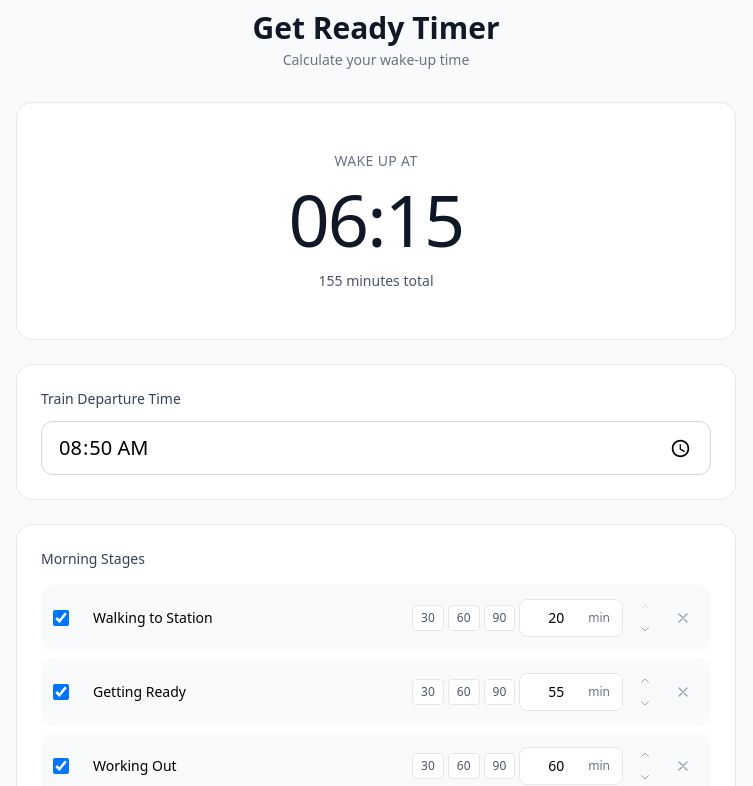
Test case: App › allows disabling a stage
Click the 1st checkbox.
click(61, 618)  # box [53, 610, 69, 626]
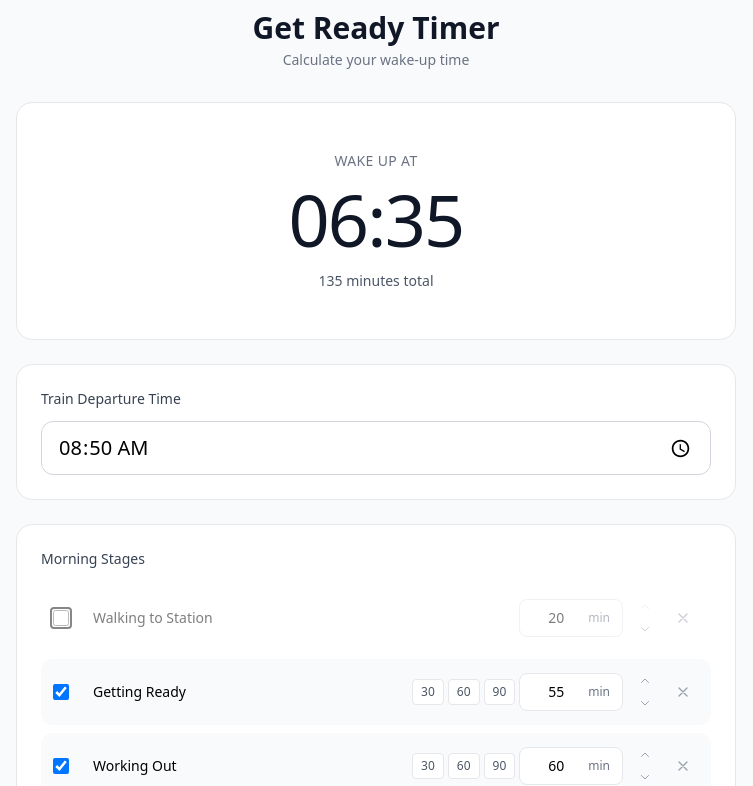
Expected: the text "135 minutes total" is shown, [318, 271, 434, 290]
